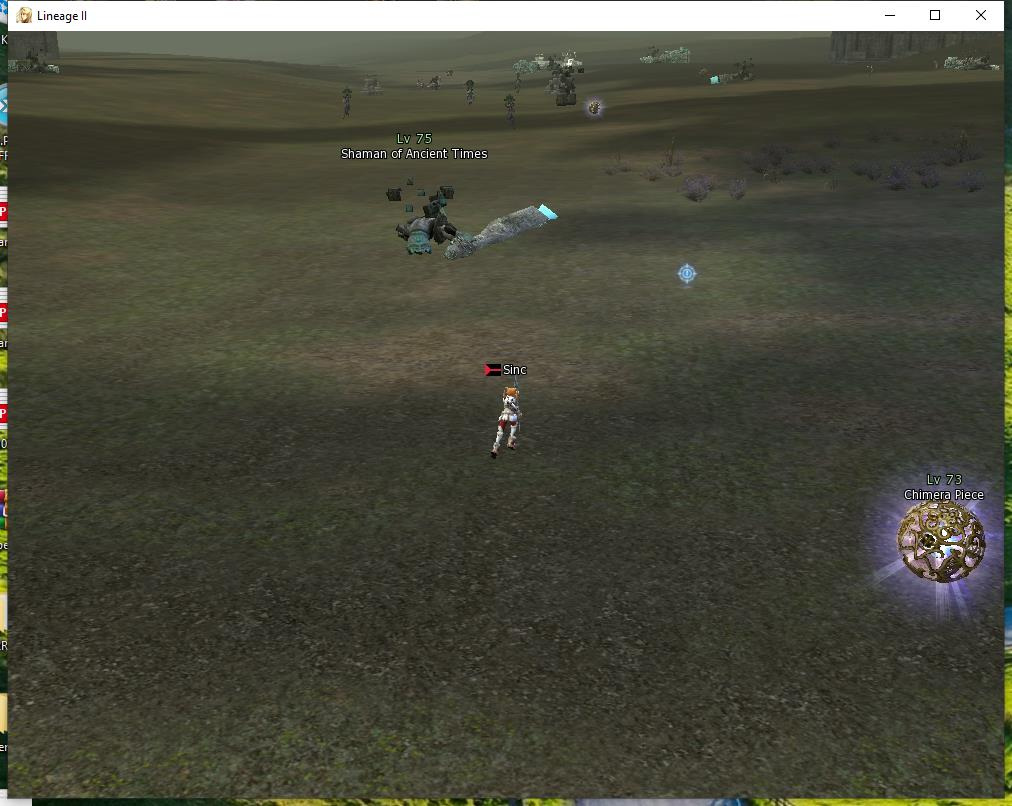monster: (329, 129, 551, 266), (880, 439, 991, 613), (548, 59, 581, 113), (451, 74, 481, 113), (499, 92, 524, 125), (339, 88, 357, 119), (589, 95, 604, 116)
